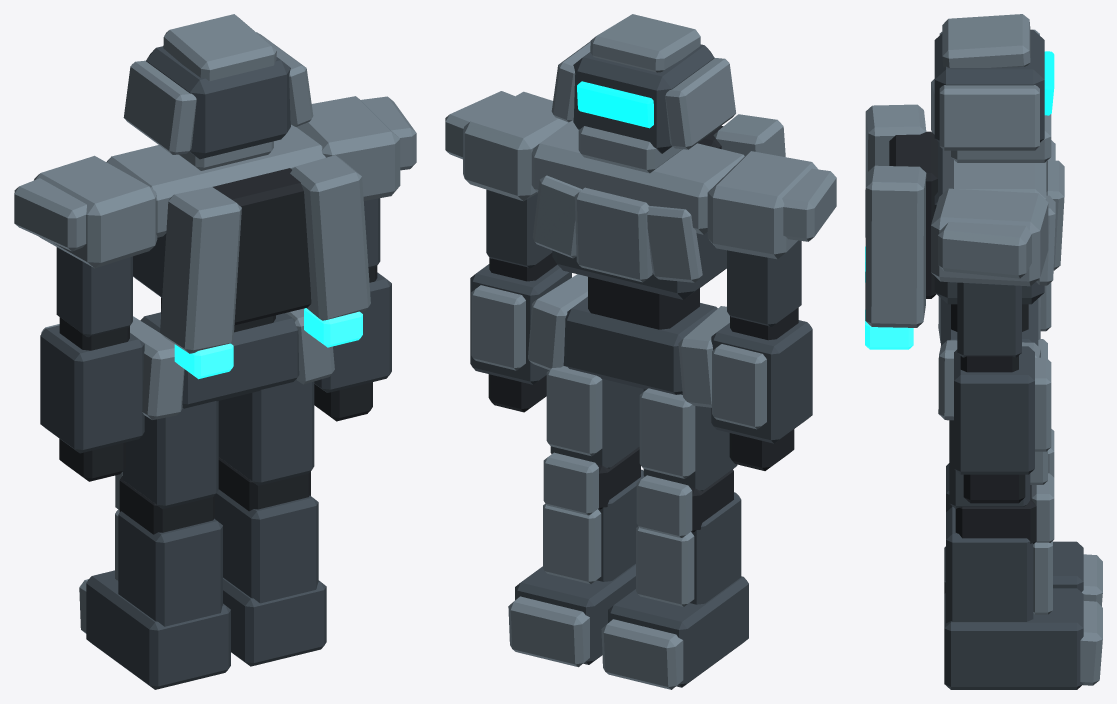
Rendered from powersuit_rigged.fbx.
3 renders of one model, left to right at view 1: azimuth 30°, elevation 25°; view 2: azimuth 150°, elevation 25°; view 3: azimuth 270°, elevation 25°, orthographic. The views are drawn at different scales.
Parts seen in each view (by area): view 1: Backpack_Thruster.R, Forearm.R, Backpack_Core, Heavy_Boot.R, Lower_Leg.R, Backpack_Thruster.L, Lower_Leg.L, Helmet_Core, Upper_Leg.L, Upper_Leg.R, Shoulder_Armour.R, Heavy_Boot.L (+22 smaller); view 2: Upper_Chest, Pelvis, Shoulder_Armour.R, Shoulder_Armour.L, Heavy_Boot.R, Forearm.R, Chest_Plate, Helmet_Core, Upper_Arm.R, Thigh_Plate.L, Thigh_Plate.R, Boot_Toe.R (+34 smaller); view 3: Heavy_Boot.L, Backpack_Thruster.L, Forearm.L, Lower_Leg.L, Helmet_Plate.L, Shoulder_Armour.L, Upper_Arm.L, Shoulder_Wing.L, Helmet_Crown, Helmet_Core, Upper_Chest, Knee.L (+22 smaller).
Part boxes in pixels (x1,y1,x2,y2): Backpack_Thruster.R: (160, 187, 241, 353); Forearm.R: (40, 325, 144, 453); Backpack_Core: (213, 168, 311, 325); Heavy_Boot.R: (86, 570, 230, 689); Lower_Leg.R: (118, 511, 222, 626); Backpack_Thruster.L: (290, 155, 370, 320); Lower_Leg.L: (215, 489, 318, 603); Helmet_Core: (146, 46, 290, 159); Upper_Leg.L: (218, 379, 314, 485); Upper_Leg.R: (122, 401, 218, 509); Shoulder_Armour.R: (34, 155, 157, 268); Heavy_Boot.L: (223, 577, 326, 666); Upper_Chest: (531, 120, 744, 234); Pelvis: (564, 296, 717, 394); Shoulder_Armour.R: (707, 151, 818, 259); Shoulder_Armour.L: (463, 91, 567, 201); Heavy_Boot.R: (608, 576, 748, 687); Forearm.R: (711, 320, 812, 443); Chest_Plate: (574, 187, 652, 282); Helmet_Core: (573, 44, 714, 153); Upper_Arm.R: (727, 240, 801, 326); Thigh_Plate.L: (546, 366, 602, 456); Thigh_Plate.R: (639, 388, 695, 478); Boot_Toe.R: (601, 619, 683, 689); Heavy_Boot.L: (944, 588, 1083, 689); Backpack_Thruster.L: (865, 165, 926, 327); Forearm.L: (954, 346, 1034, 474); Lower_Leg.L: (946, 506, 1033, 623); Helmet_Plate.L: (939, 85, 1039, 150); Shoulder_Armour.L: (931, 188, 1048, 286); Upper_Arm.L: (957, 282, 1021, 357); Shoulder_Wing.L: (938, 222, 1031, 278); Helmet_Crown: (942, 14, 1030, 67); Helmet_Core: (934, 29, 1044, 142); Upper_Chest: (942, 149, 1046, 199); Knee.L: (955, 485, 1036, 543).
Bounding box in the file's own units: 1.35 × 2.11 × 0.7346.
